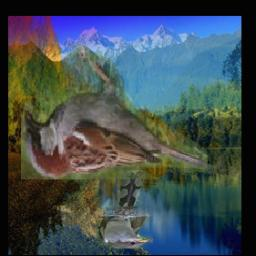Cuckoo: (98, 170, 154, 249)
Sparrow: (22, 45, 209, 179)
